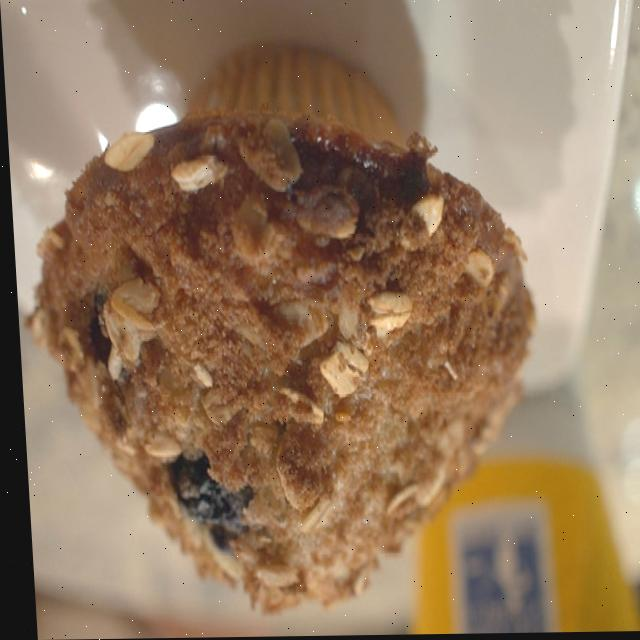炸货点心: (18, 28, 561, 632)
面包点心: (18, 28, 561, 632)
